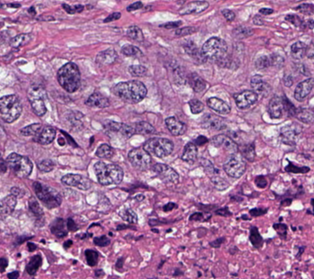nucleus: (112, 80, 146, 102), (33, 182, 61, 208), (94, 161, 123, 185), (57, 62, 80, 92), (201, 37, 227, 62), (6, 153, 32, 177), (143, 137, 173, 157), (27, 85, 46, 116), (0, 94, 21, 122), (153, 163, 179, 184), (211, 134, 238, 153), (104, 121, 135, 137), (184, 40, 206, 62), (61, 173, 91, 189), (128, 148, 150, 169), (234, 90, 257, 109), (200, 113, 225, 130), (223, 158, 245, 177), (167, 60, 185, 83), (250, 75, 270, 95), (33, 126, 55, 144), (187, 72, 206, 92), (165, 117, 186, 135), (207, 97, 230, 113), (85, 92, 109, 107), (1, 194, 16, 218), (28, 197, 43, 220), (50, 218, 68, 237), (268, 96, 283, 118), (96, 48, 116, 64), (181, 142, 197, 162), (26, 254, 41, 275), (10, 33, 31, 47), (20, 123, 41, 136), (126, 25, 143, 41), (96, 143, 114, 158), (135, 121, 155, 134), (120, 208, 137, 223), (250, 227, 262, 247), (37, 159, 54, 172), (121, 45, 141, 56), (128, 64, 146, 76), (255, 55, 270, 69), (188, 99, 203, 113), (85, 249, 98, 265), (242, 144, 254, 160), (270, 54, 283, 67), (94, 236, 109, 246), (194, 135, 207, 145), (250, 208, 266, 216), (255, 176, 266, 187), (66, 218, 76, 230), (10, 187, 23, 196), (210, 238, 222, 247), (0, 257, 7, 272), (216, 208, 230, 215), (163, 202, 175, 210), (1, 158, 7, 172), (7, 271, 18, 278), (27, 242, 35, 250), (64, 240, 71, 247), (58, 138, 64, 145)
